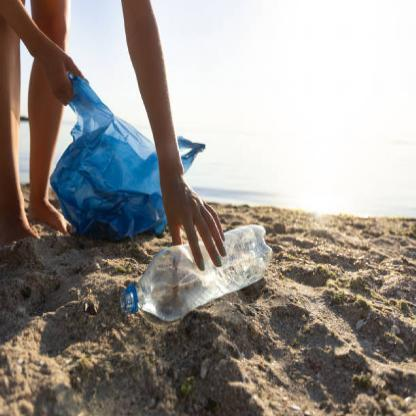Plastic: (118, 221, 274, 324)
